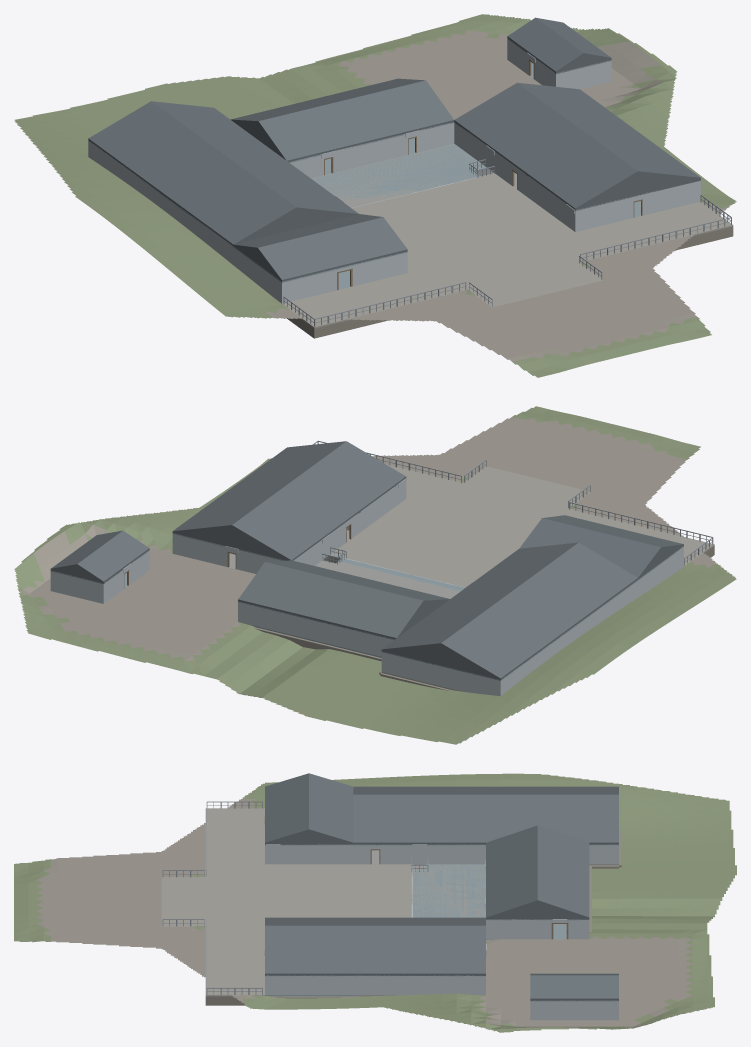
File: saved-earthworks.glb
3 views of the same model, one above another, from view 1: azimuth 30°, elevation 25°; view 2: azimuth 150°, elevation 25°; view 3: azimuth 270°, elevation 25° (orthographic). The views are drawn at different scales.
Visible parts, largest first — view 1: Saved editor geographic earthworks WLD-08.001, WLD-08 compound service forecourt structural surface region0, WLD-08 raised courtyard terrace structural surface region0, dormitory-and-mess roof west, radio-records roof south, laboratory roof west, generator-building roof west, Entrance rebuild Research courtyard structural deck region0, stores roof south, dormitory-and-mess roof east, WLD-08 main tunnel roof with rectangular wells region0, laboratory roof east (+22 smaller); view 2: Saved editor geographic earthworks WLD-08.001, WLD-08 raised courtyard terrace structural surface region0, dormitory-and-mess roof west, radio-records roof north, WLD-08 compound service forecourt structural surface region0, generator-building roof west, laboratory roof west, dormitory-and-mess roof east, stores roof north, generator-building roof east, laboratory roof east, WLD-08 arrival apron structural surface region0 (+19 smaller); view 3: Saved editor geographic earthworks WLD-08.001, WLD-08 compound service forecourt structural surface region0, dormitory-and-mess roof east, WLD-08 raised courtyard terrace structural surface region0, laboratory roof east, generator-building roof east, radio-records roof north, radio-records roof south, Entrance rebuild Research courtyard structural deck region0, WLD-08 main tunnel roof with rectangular wells region0, stores roof north, stores roof south (+14 smaller).
Boxes of the visible parts, bbox=[...] form: Saved editor geographic earthworks WLD-08.001: bbox=[14, 14, 736, 377]; WLD-08 compound service forecourt structural surface region0: bbox=[282, 201, 733, 328]; WLD-08 raised courtyard terrace structural surface region0: bbox=[352, 173, 574, 272]; dormitory-and-mess roof west: bbox=[454, 83, 637, 209]; radio-records roof south: bbox=[258, 80, 454, 161]; laboratory roof west: bbox=[161, 154, 296, 245]; generator-building roof west: bbox=[88, 101, 223, 192]; Entrance rebuild Research courtyard structural deck region0: bbox=[312, 143, 493, 200]; stores roof south: bbox=[257, 217, 407, 281]; dormitory-and-mess roof east: bbox=[517, 82, 700, 178]; WLD-08 main tunnel roof with rectangular wells region0: bbox=[314, 145, 483, 207]; laboratory roof east: bbox=[224, 154, 358, 214]; Saved editor geographic earthworks WLD-08.001: bbox=[14, 406, 736, 744]; WLD-08 raised courtyard terrace structural surface region0: bbox=[330, 499, 532, 587]; dormitory-and-mess roof west: bbox=[232, 441, 406, 560]; radio-records roof north: bbox=[238, 562, 423, 638]; WLD-08 compound service forecourt structural surface region0: bbox=[385, 464, 714, 566]; generator-building roof west: bbox=[441, 593, 569, 679]; laboratory roof west: bbox=[510, 542, 638, 629]; dormitory-and-mess roof east: bbox=[172, 441, 345, 532]; stores roof north: bbox=[519, 518, 660, 578]; generator-building roof east: bbox=[381, 593, 508, 650]; laboratory roof east: bbox=[451, 542, 577, 598]; WLD-08 arrival apron structural surface region0: bbox=[463, 466, 591, 508]; Saved editor geographic earthworks WLD-08.001: bbox=[14, 773, 736, 1032]; WLD-08 compound service forecourt structural surface region0: bbox=[205, 808, 264, 996]; dormitory-and-mess roof east: bbox=[265, 925, 485, 974]; WLD-08 raised courtyard terrace structural surface region0: bbox=[265, 864, 412, 917]; laboratory roof east: bbox=[353, 794, 485, 844]; generator-building roof east: bbox=[486, 794, 618, 844]; radio-records roof north: bbox=[537, 825, 589, 918]; radio-records roof south: bbox=[486, 825, 537, 918]; Entrance rebuild Research courtyard structural deck region0: bbox=[412, 864, 485, 917]; WLD-08 main tunnel roof with rectangular wells region0: bbox=[412, 864, 485, 917]; stores roof north: bbox=[309, 773, 353, 843]; stores roof south: bbox=[265, 773, 308, 843].
Size of the model in its own units: 83 by 9.04 by 98.
Materials: 37 (22 with a texture image).
